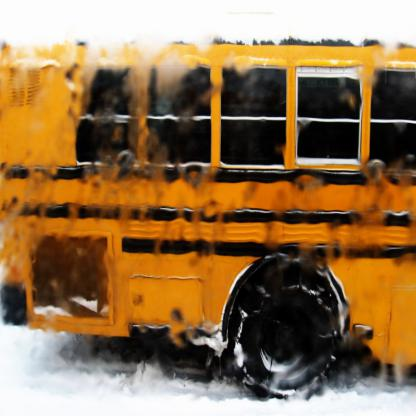Bus: (0, 35, 415, 401)
